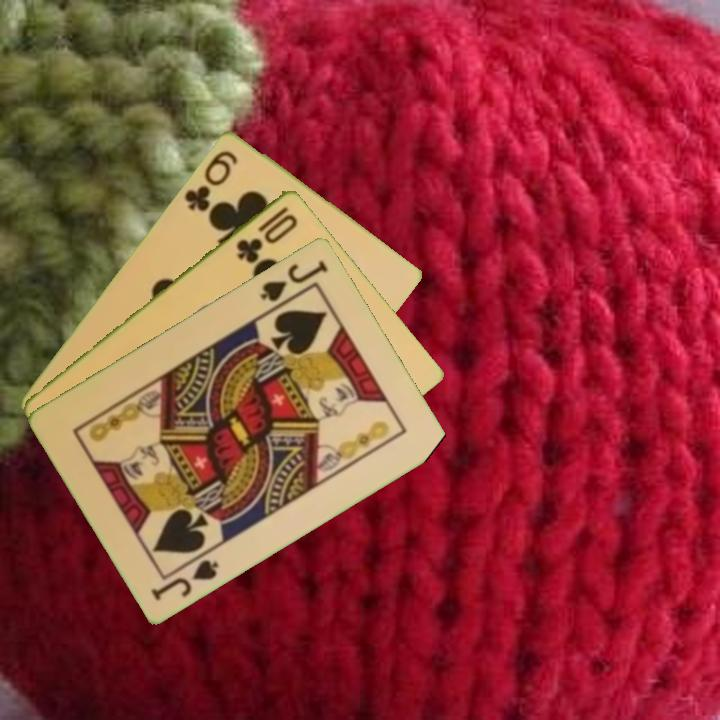10c: (232, 202, 301, 266)
6c: (180, 146, 241, 214)
Js: (256, 256, 331, 304), (147, 555, 222, 603)
